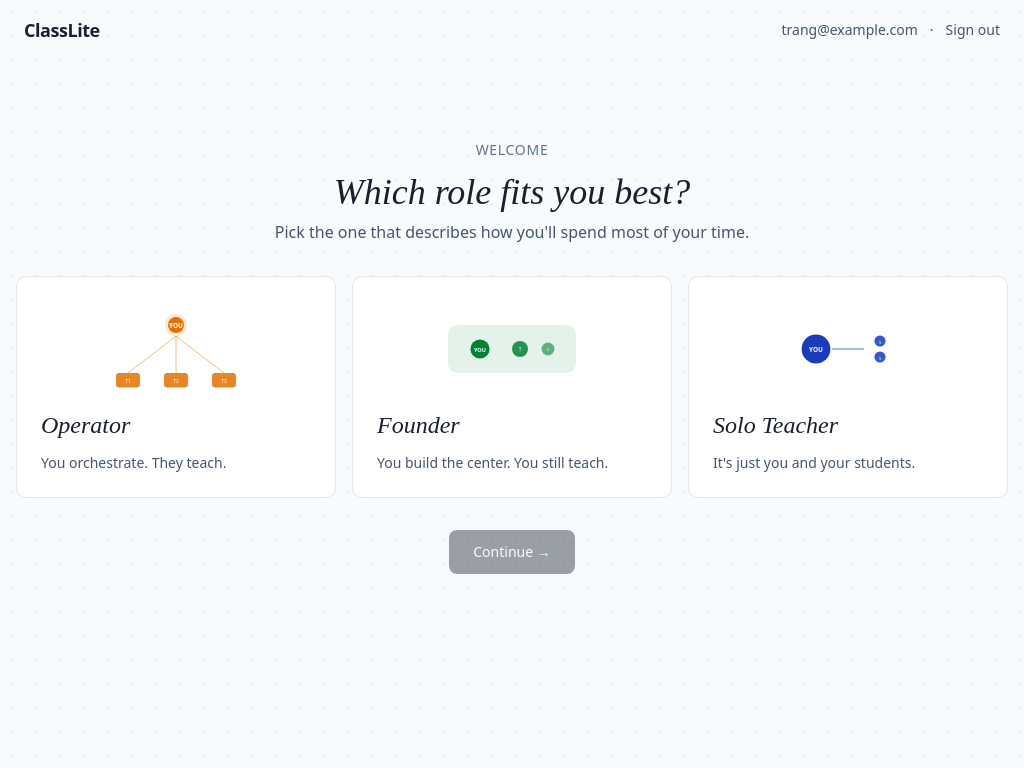
Test: PersonaSelectPage — AC1 shell + zero-selection › AC1: Continue button is disabled until a selection exists
expect the button "Continue →" is disabled: met, box [449,530,575,574]
Click a card
Click the radio button labelled "YOU T1 T2 T3 Operator You orchestrate. They teach." at (176, 387), box [16,276,336,498]
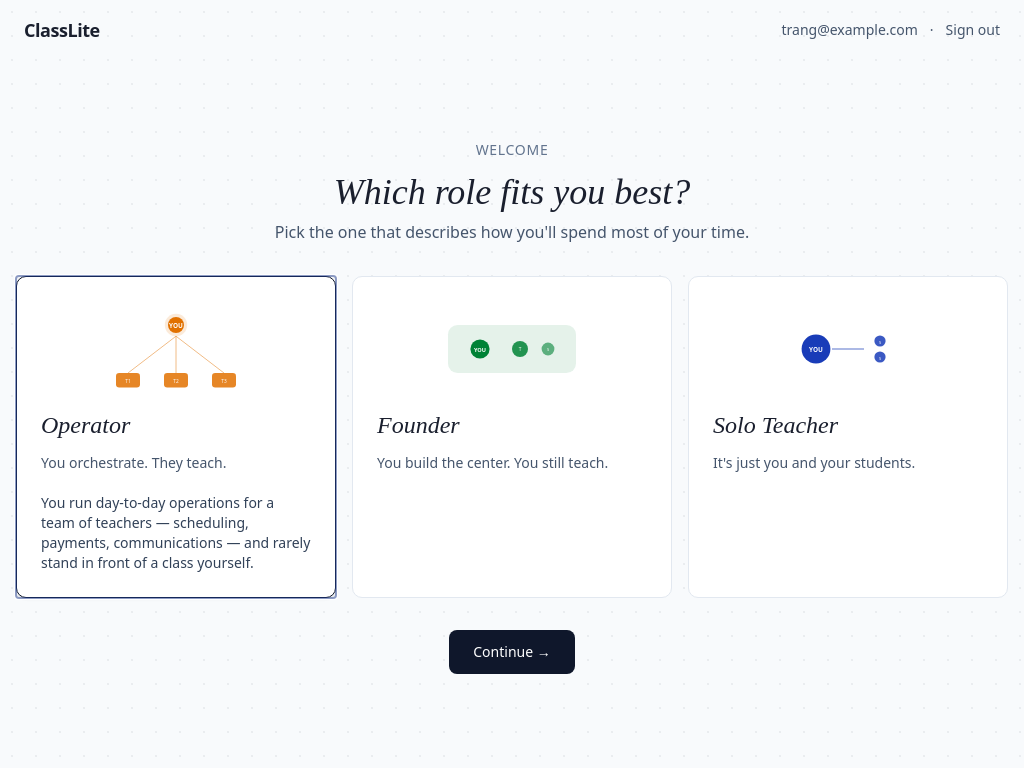
expect the button "Continue →" is enabled: met, box [449,630,575,674]
